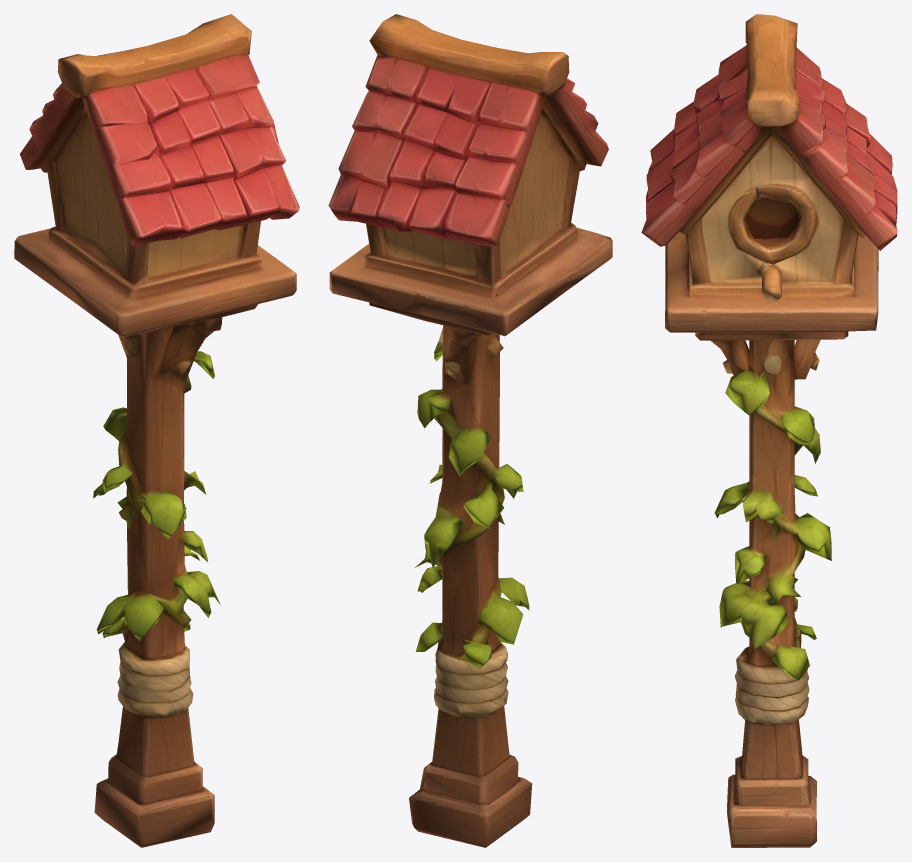
Rendered from meuble-nichoir.glb.
The picture shows the model from 3 angles, left to right: view 1: azimuth 30°, elevation 25°; view 2: azimuth 150°, elevation 25°; view 3: azimuth 270°, elevation 25°; orthographic projection.
Visible parts, largest first — view 1: tripo_node_052fcf22-2187-4040-b288-5f1723d14c27; view 2: tripo_node_052fcf22-2187-4040-b288-5f1723d14c27; view 3: tripo_node_052fcf22-2187-4040-b288-5f1723d14c27.
Part boxes in pixels (x1,y1,x2,y2): tripo_node_052fcf22-2187-4040-b288-5f1723d14c27: (14,14,299,847); tripo_node_052fcf22-2187-4040-b288-5f1723d14c27: (328,14,612,847); tripo_node_052fcf22-2187-4040-b288-5f1723d14c27: (641,14,897,847).
Bounding box in the file's own units: 0.2567 × 1 × 0.2988.
Materials: 1 (1 with a texture image).
